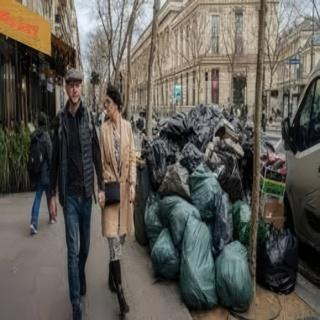Garbage: (177, 212, 217, 309), (256, 221, 297, 294), (214, 240, 252, 310), (186, 161, 222, 216), (149, 228, 180, 284), (159, 149, 191, 199)
